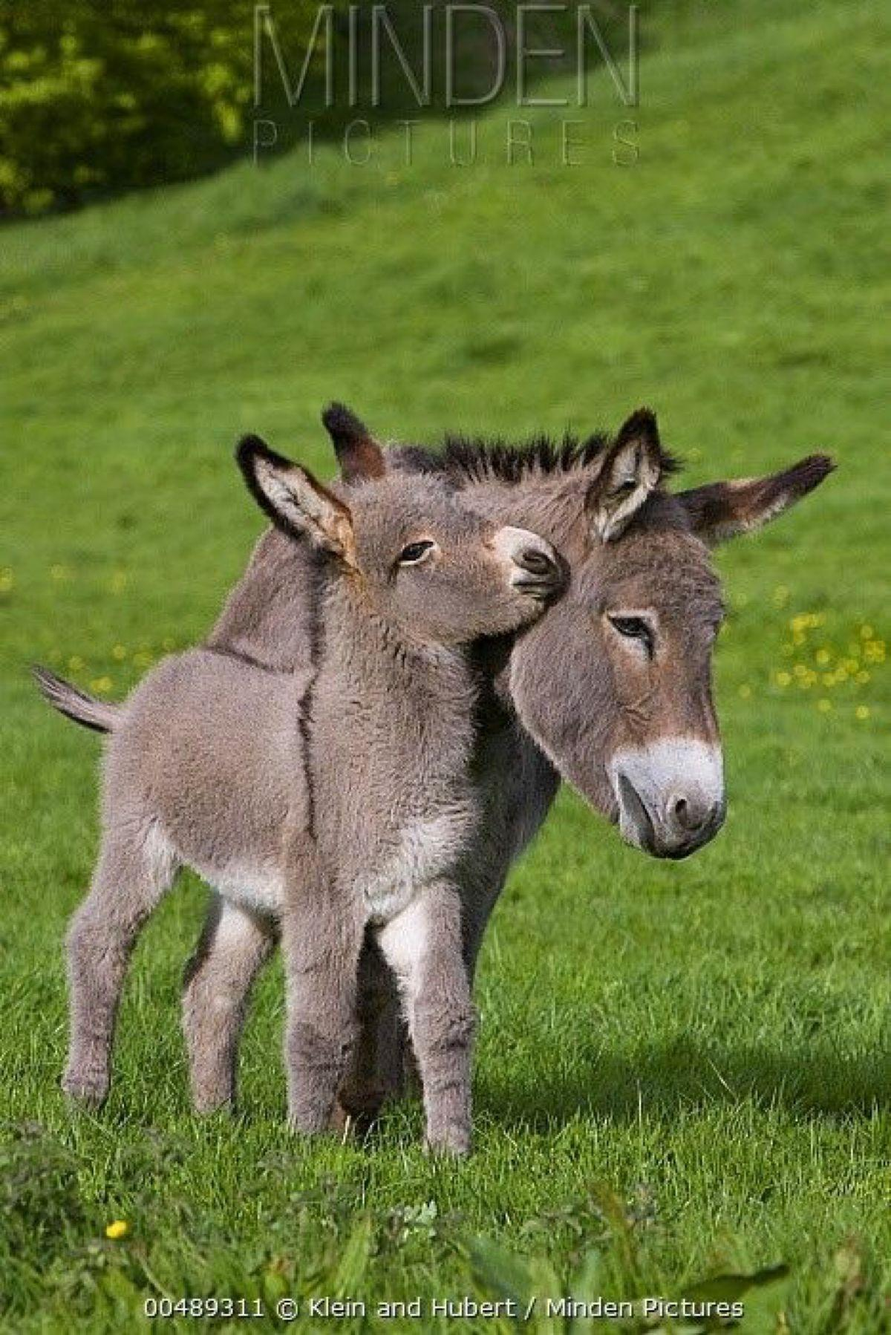donkey: (40, 408, 562, 1152), (382, 412, 830, 986), (385, 411, 832, 973)
